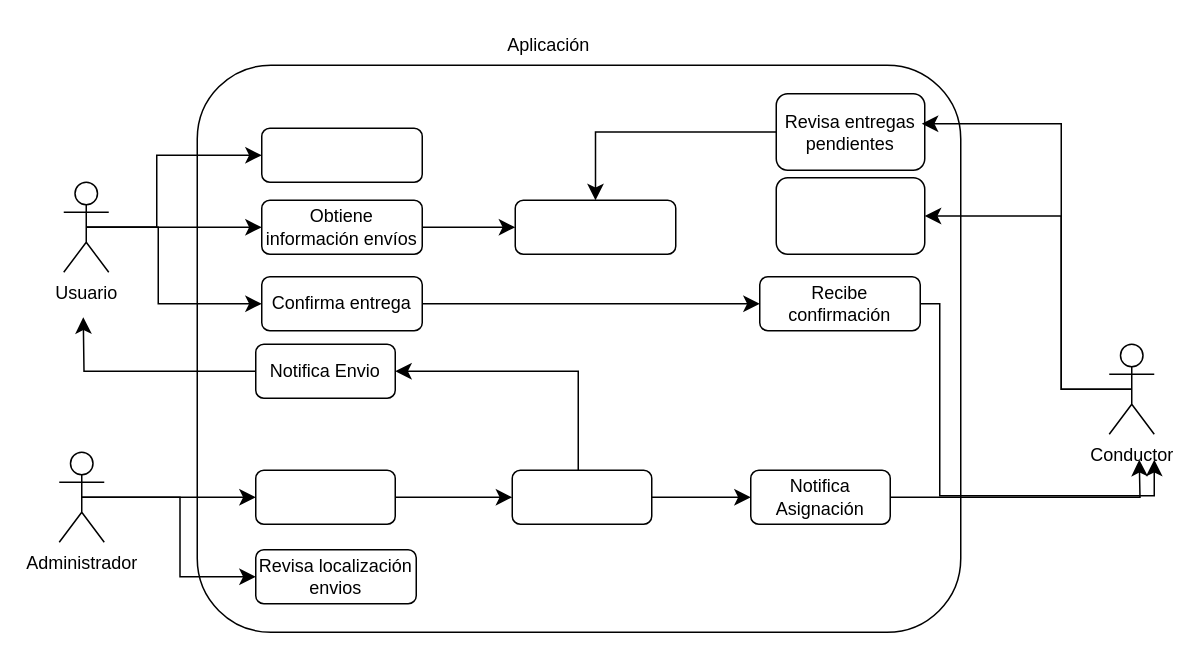
Image size: 1199x659. Some labels were removed from this diagram. The centre of each missing label's shape, as x and y in pixels:
Actualiza localización envio: the point at 850,215
Asigna envio: the point at 581,496
Cambia fecha de entrega: the point at 341,154
Consulta localización: the point at 595,226
Crea envio: the point at 324,496
